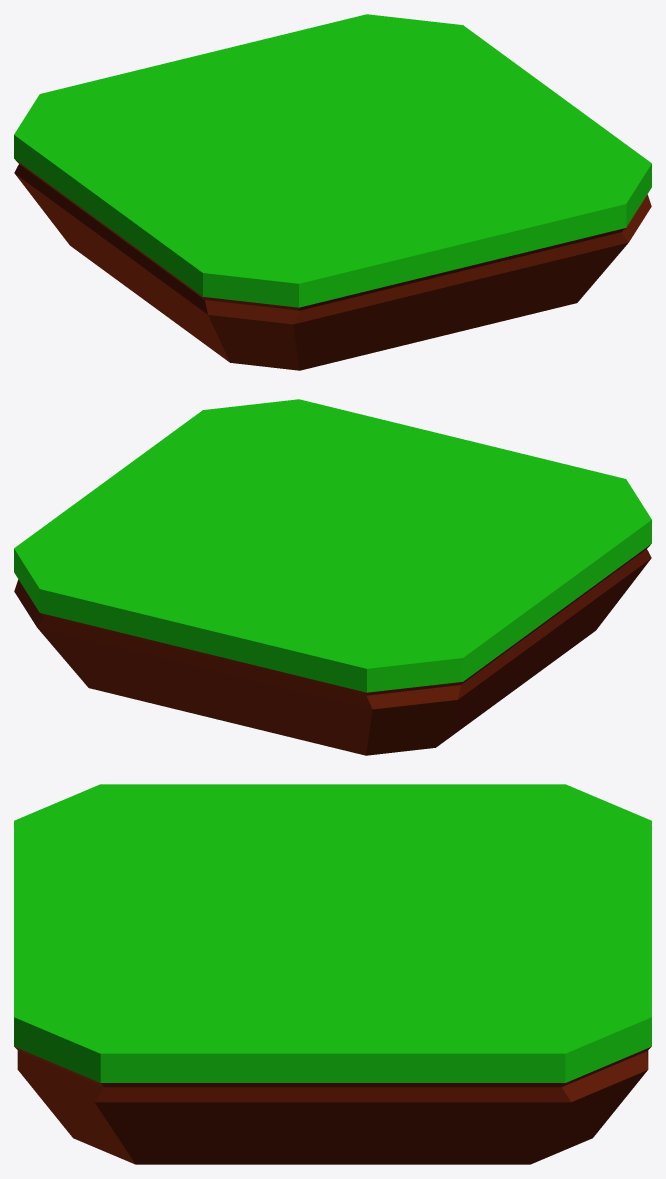
File: paltform_v2.FBX
3 renders of one model, top to bottom at view 1: azimuth 30°, elevation 25°; view 2: azimuth 150°, elevation 25°; view 3: azimuth 270°, elevation 25°, orthographic. The views are drawn at different scales.
Visible parts, largest first — view 1: Platform_Medium_grass; view 2: Platform_Medium_grass; view 3: Platform_Medium_grass.
Part boxes in pixels (box(x1,y1,x2,y2)): Platform_Medium_grass: box(14, 14, 651, 370); Platform_Medium_grass: box(14, 399, 651, 755); Platform_Medium_grass: box(14, 784, 651, 1164).
Size of the model in its own units: 1210 by 285 by 1210.
